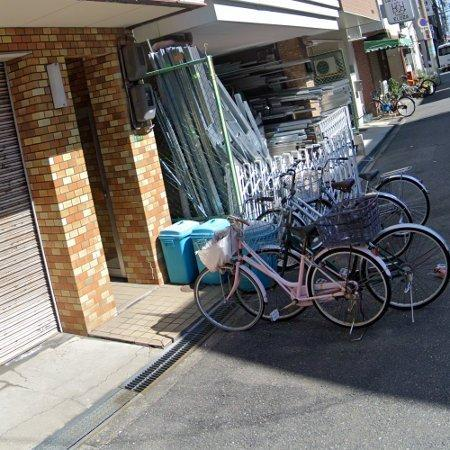bicycles: (195, 216, 392, 332), (370, 225, 450, 310), (261, 248, 300, 282), (264, 296, 290, 320)
